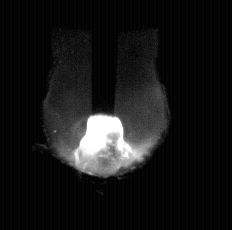arame: (91, 0, 116, 118)
poca: (43, 0, 168, 230)
